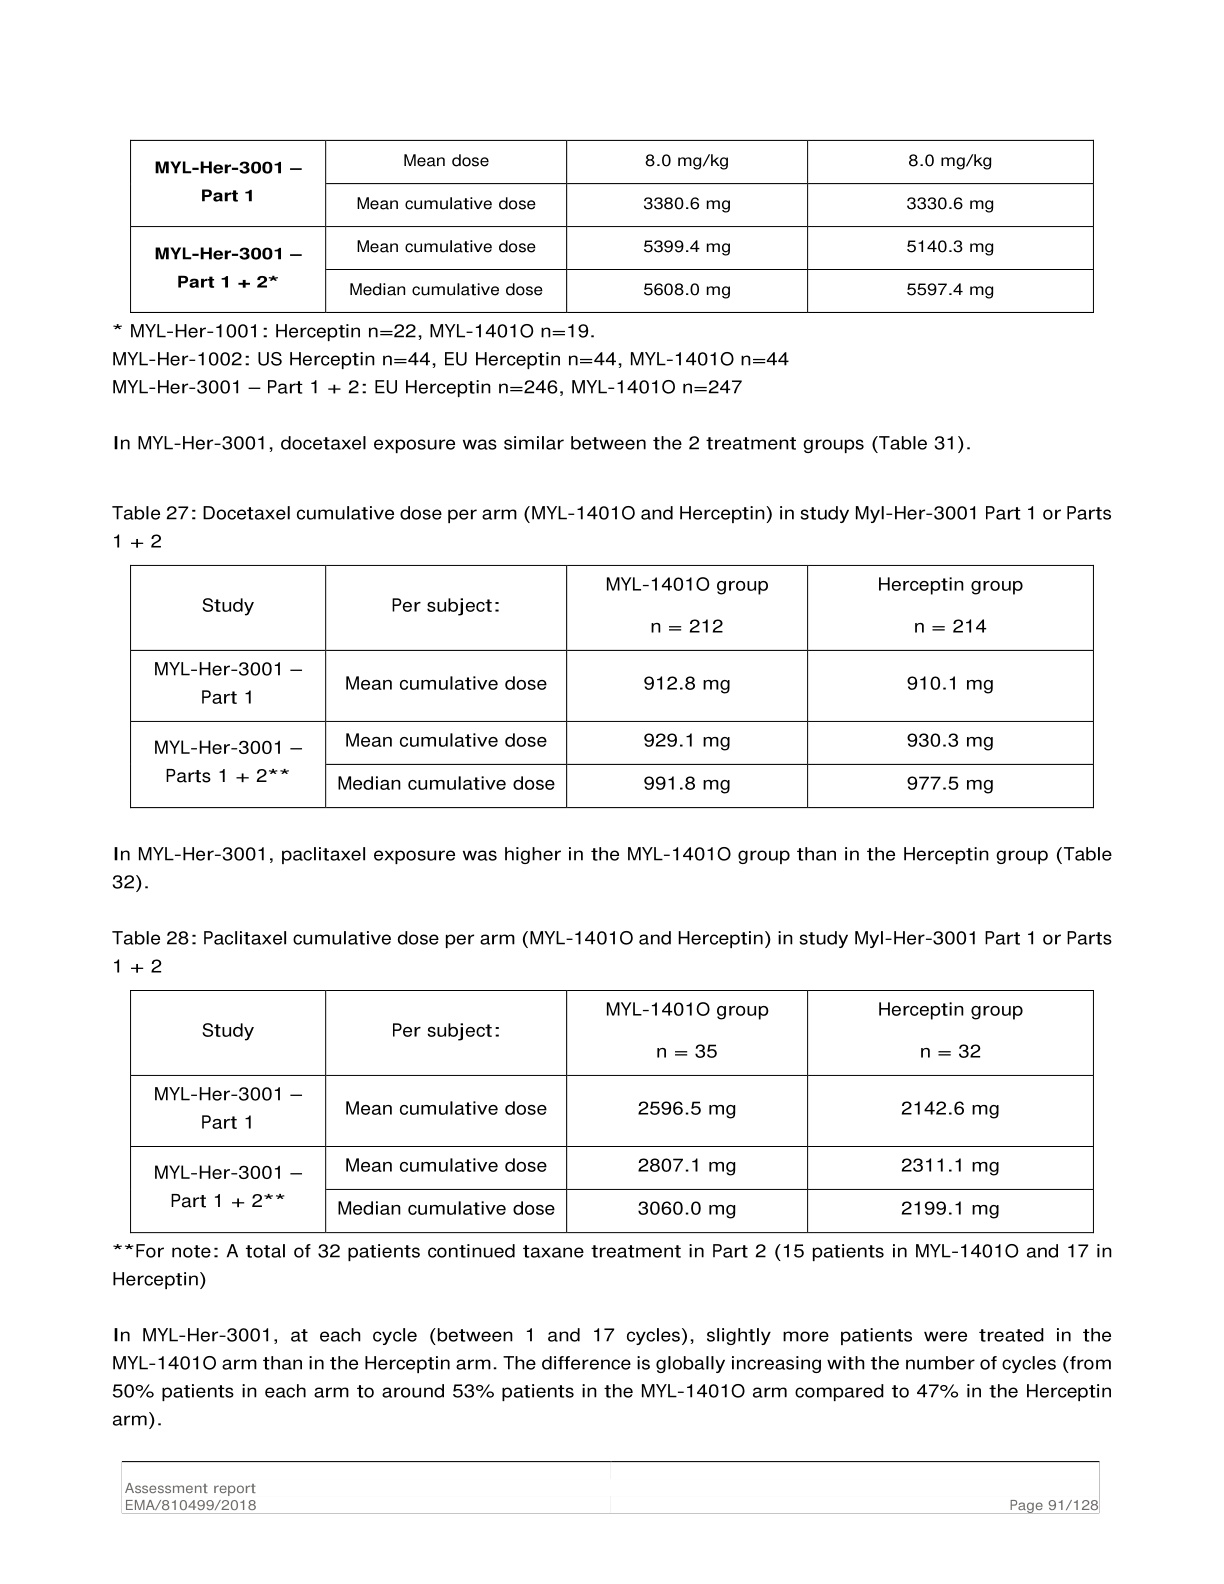merged_cells: (129, 987, 1094, 1233), (129, 564, 1094, 807), (129, 138, 1094, 312)
